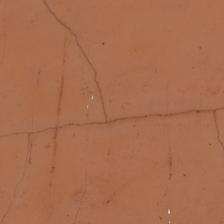Crack: (24, 76, 85, 148), (5, 200, 122, 224)
